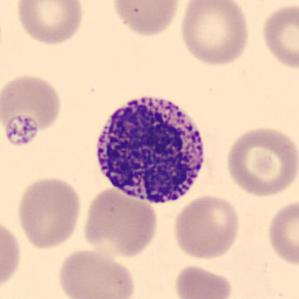Basophil: (88, 86, 214, 211)
Platelets: (3, 112, 40, 148)
RBC: (81, 185, 160, 260), (223, 123, 298, 198), (14, 174, 83, 250), (0, 71, 64, 150), (177, 0, 252, 67), (170, 193, 242, 261), (55, 247, 137, 299), (13, 0, 86, 46), (109, 0, 183, 38), (259, 2, 299, 72), (265, 196, 299, 268), (171, 262, 235, 299), (0, 216, 24, 296)
